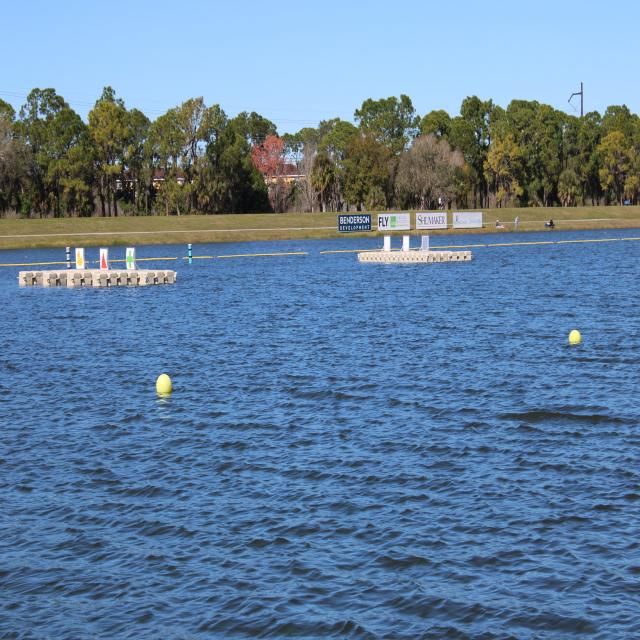blue-cross: (127, 248, 135, 269)
red-dot: (99, 248, 108, 270)
yellow-buoy: (156, 372, 172, 396), (568, 330, 582, 346)
yellow-duck: (76, 246, 84, 272)
